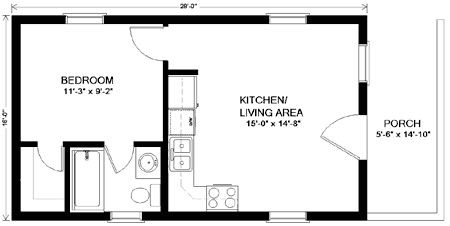door: (311, 110, 368, 162), (118, 22, 171, 63), (101, 142, 138, 174), (31, 146, 70, 176)
rolm: (164, 18, 361, 219), (14, 15, 164, 142), (64, 140, 163, 215), (15, 140, 69, 218)
wall: (6, 14, 25, 224), (103, 7, 269, 31), (143, 209, 271, 226), (10, 207, 110, 226), (160, 60, 171, 223), (306, 6, 374, 29), (351, 159, 372, 226), (7, 11, 68, 33), (305, 206, 370, 226), (60, 138, 74, 222), (345, 81, 374, 115), (352, 10, 373, 45), (16, 125, 41, 151), (134, 136, 171, 153), (61, 138, 107, 149)
window: (352, 42, 378, 83), (65, 7, 104, 31), (269, 6, 308, 30), (265, 207, 306, 226), (108, 207, 148, 226)
